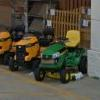Tractor: (13, 26, 93, 86)
